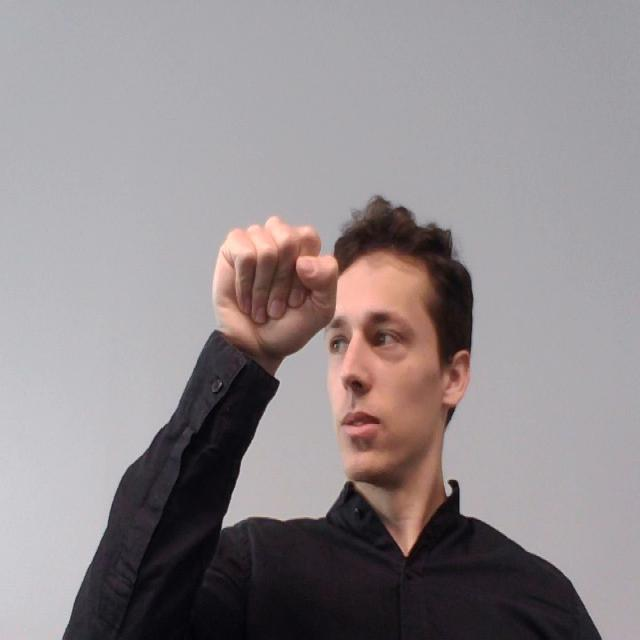stop: (200, 212, 339, 376)
